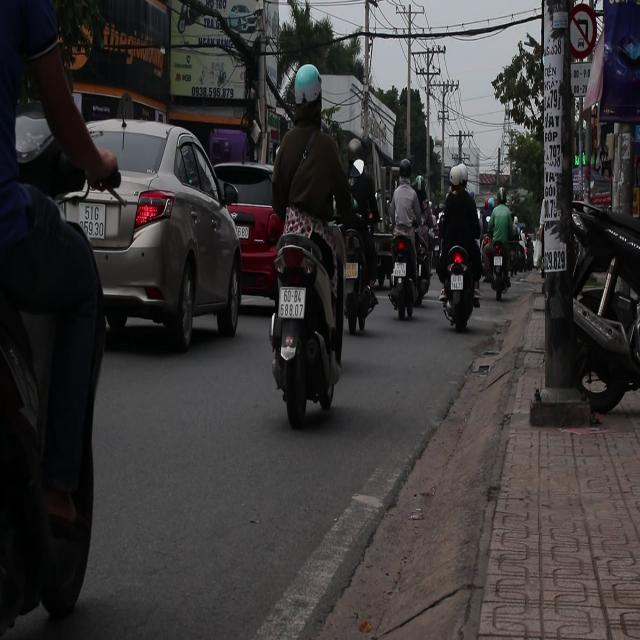car: (56, 119, 250, 352), (214, 160, 282, 311), (588, 180, 612, 210)
motorbike: (564, 197, 640, 423), (266, 229, 345, 425), (442, 231, 482, 352), (339, 220, 380, 338), (387, 223, 430, 317), (490, 243, 514, 302)
